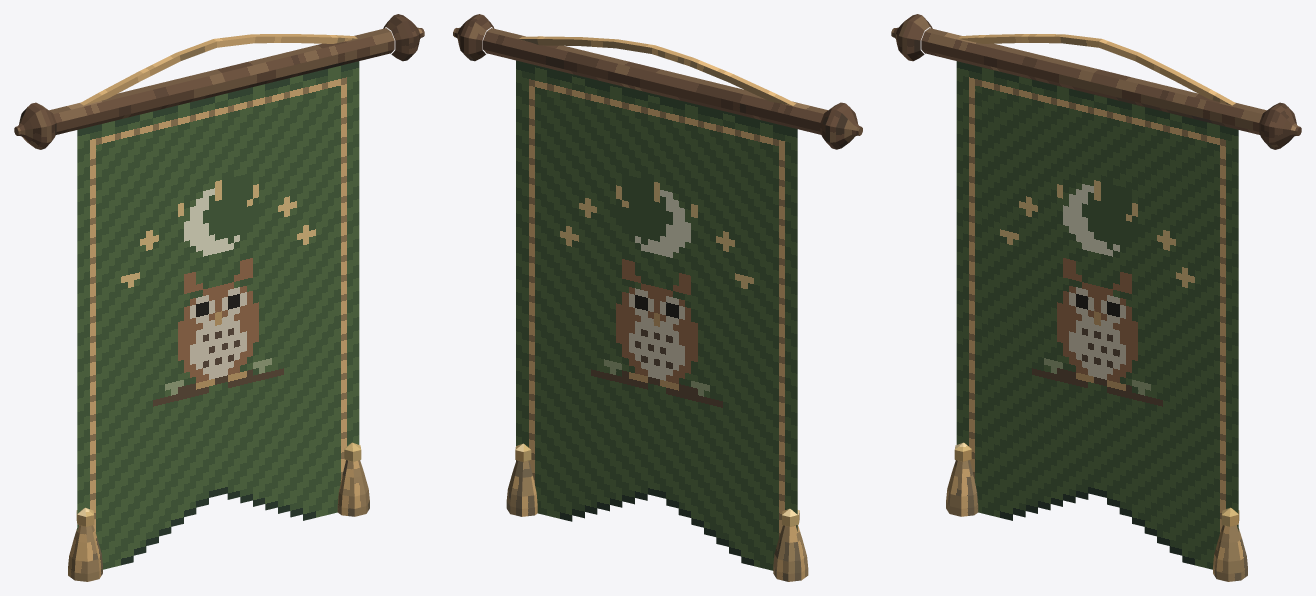
The model's file is owl_tapestry.glb.
The picture shows the model from 3 angles, left to right: view 1: azimuth 30°, elevation 25°; view 2: azimuth 150°, elevation 25°; view 3: azimuth 330°, elevation 25°; orthographic projection.
Visible parts, largest first — view 1: static; view 2: static; view 3: static.
Boxes of the visible parts, left/top/right/bottom form: static: left=14, top=14, right=424, bottom=581; static: left=453, top=14, right=862, bottom=581; static: left=891, top=14, right=1301, bottom=581.
Bounding box in the file's own units: 1.35 × 1.59 × 0.1266.
Materials: 2 (2 with a texture image).
